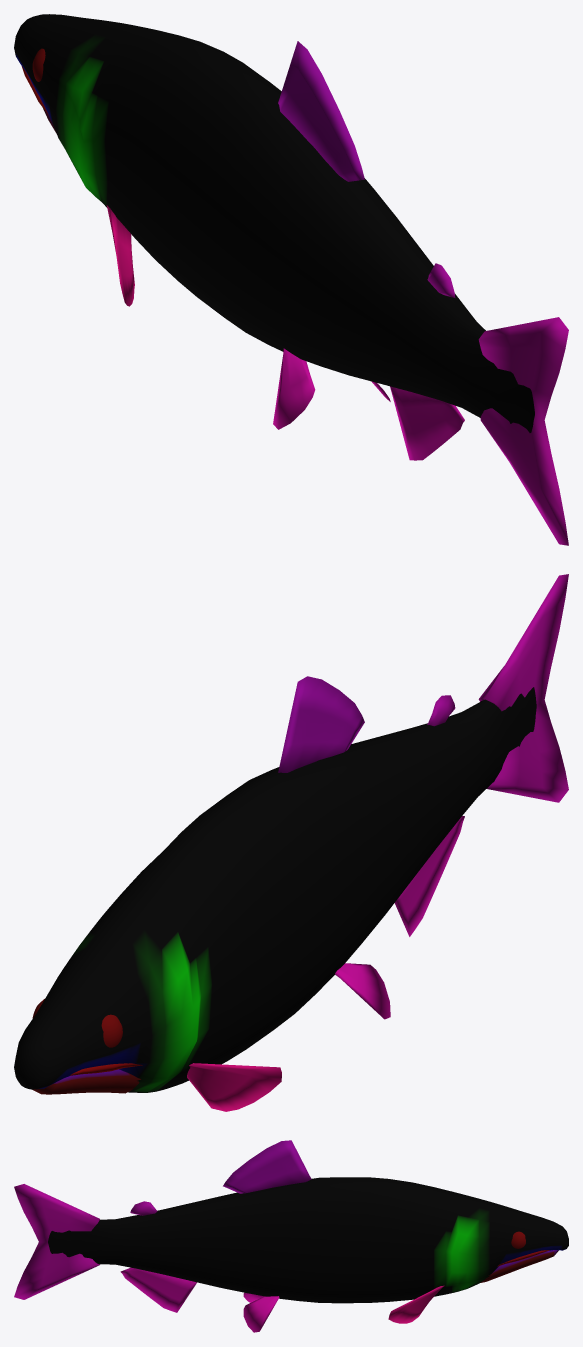
File: sockeye_migrating_game.glb
The picture shows the model from 3 angles, top to bottom: view 1: azimuth 30°, elevation 25°; view 2: azimuth 150°, elevation 25°; view 3: azimuth 270°, elevation 25°; orthographic projection. The views are drawn at different scales.
Parts seen in each view (by area): view 1: sockeye_migrating_game; view 2: sockeye_migrating_game; view 3: sockeye_migrating_game.
Part boxes in pixels (box(x1,y1,x2,y2)): sockeye_migrating_game: box(14, 14, 568, 545); sockeye_migrating_game: box(14, 574, 568, 1111); sockeye_migrating_game: box(14, 1140, 568, 1332).
Size of the model in its own units: 0.1019 by 0.2116 by 0.5968.
